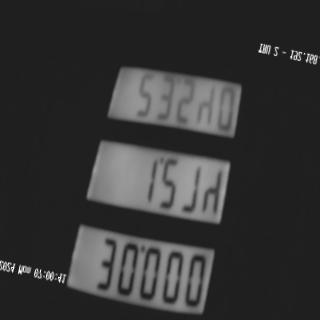screen: (58, 20, 266, 320)
